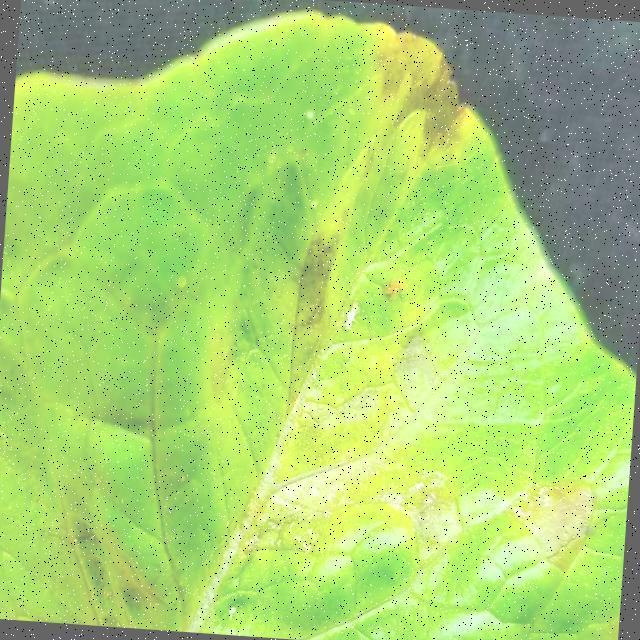Powdery_Mildew: (231, 376, 608, 600)
